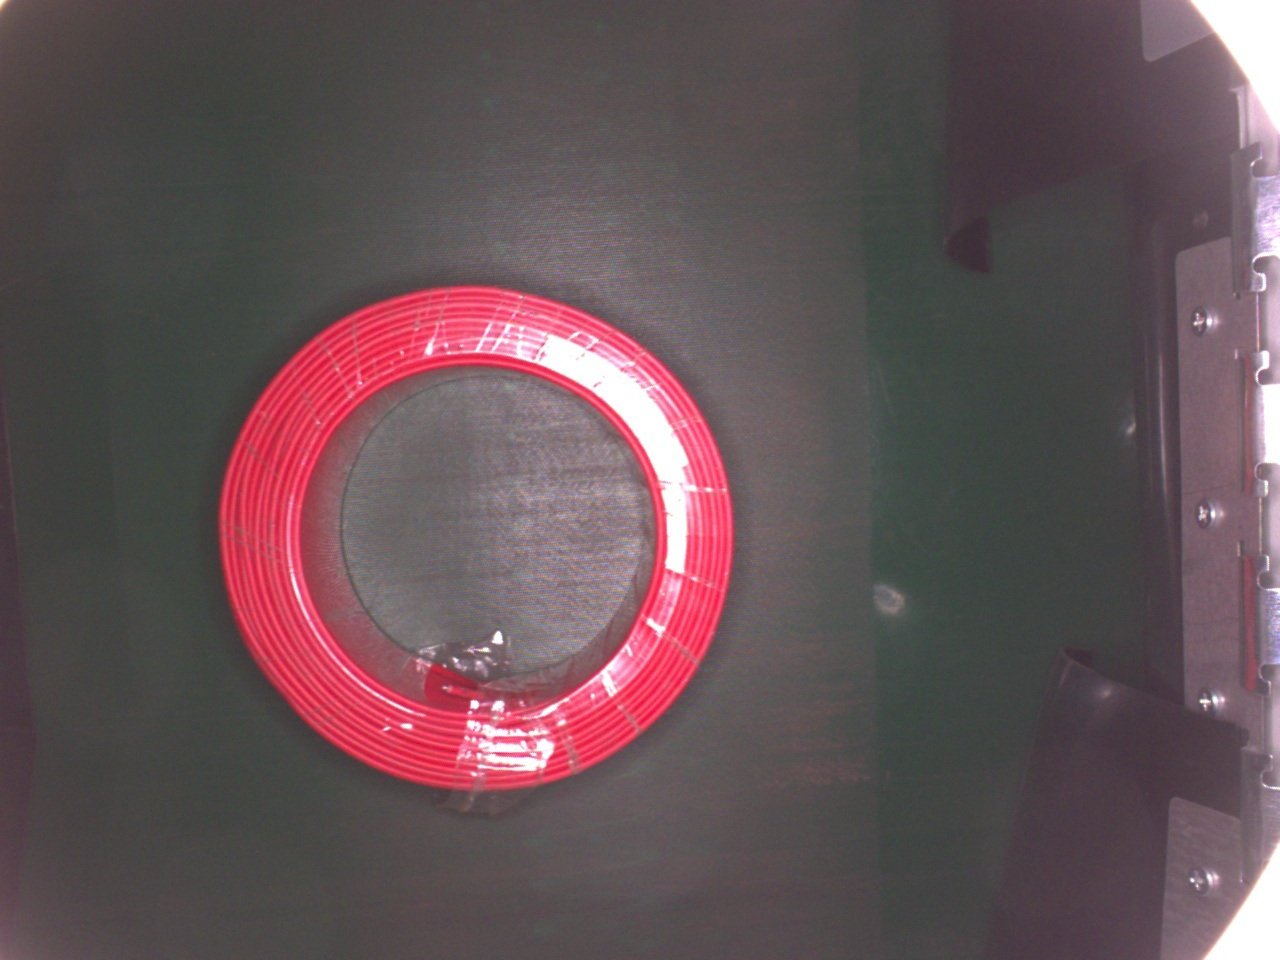red: (214, 281, 736, 793)
